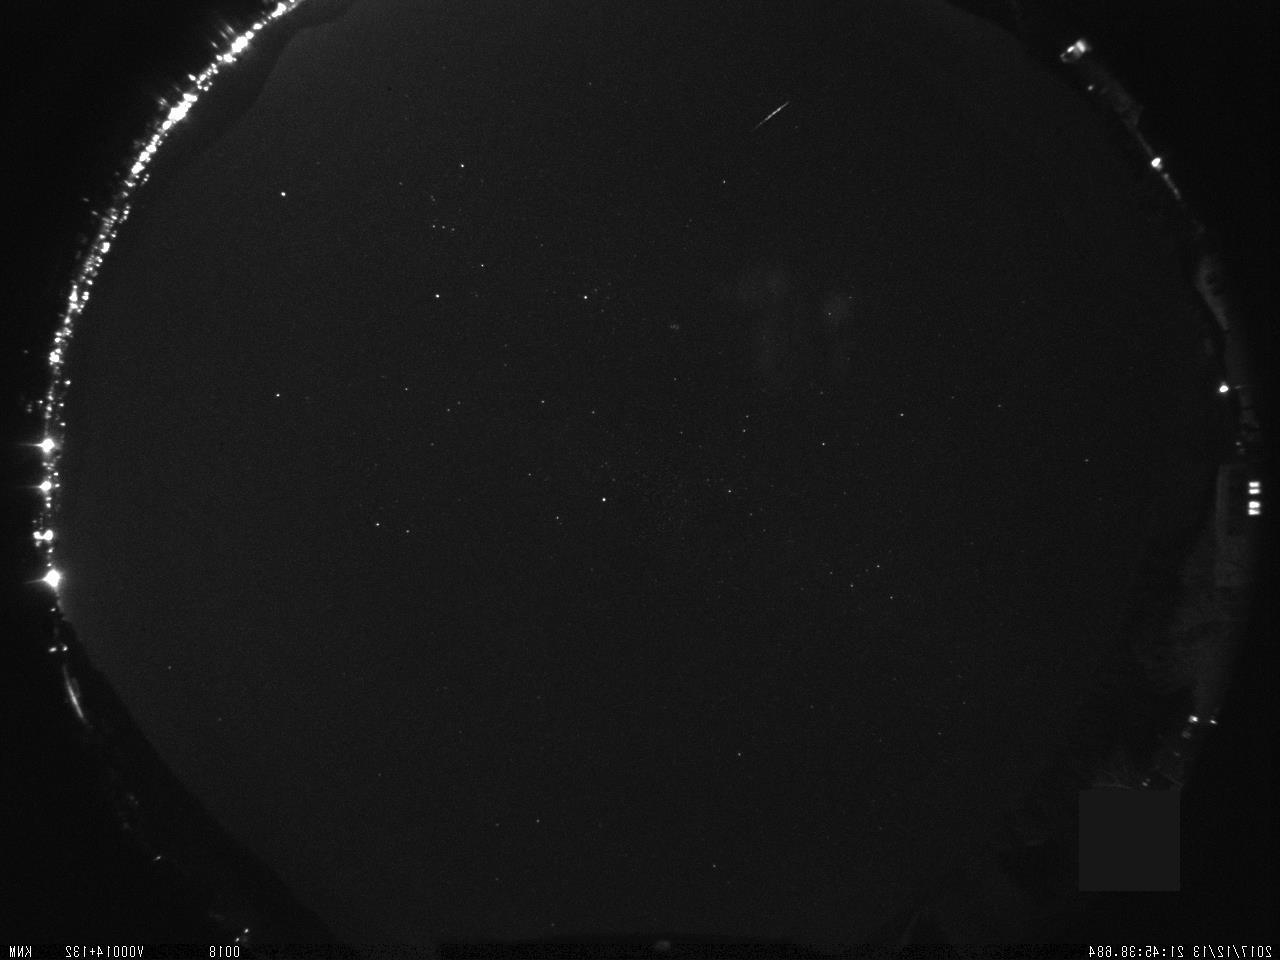meteor: (751, 96, 801, 147)
